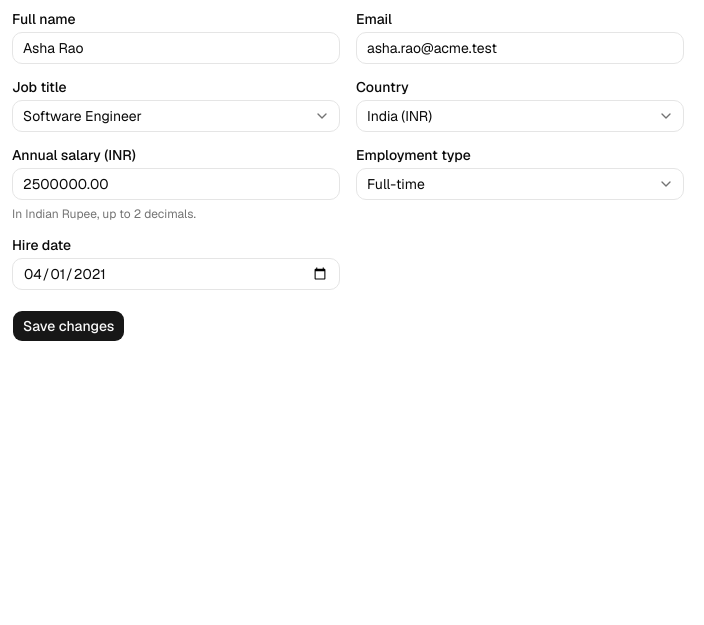
Test: EmployeeForm (edit) › warns that the currency changes and requires a new salary when the country changes
Expected: the field labelled "Annual salary (INR)" holds "2500000.00", left=12, top=168, right=340, bottom=200
Select "Japan (JPY)" in the dropdown labelled "Country" at coordinates (520, 116), box left=356, top=100, right=684, bottom=132
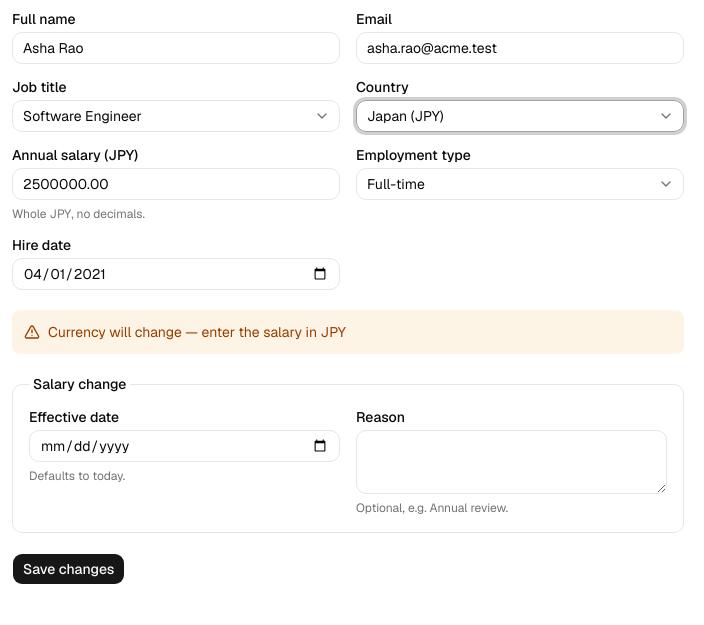
Now the message reads "Currency will change — enter the salary in JPY", box left=12, top=310, right=684, bottom=354
Click the button "Save changes" at coordinates (69, 569), box left=12, top=553, right=125, bottom=585
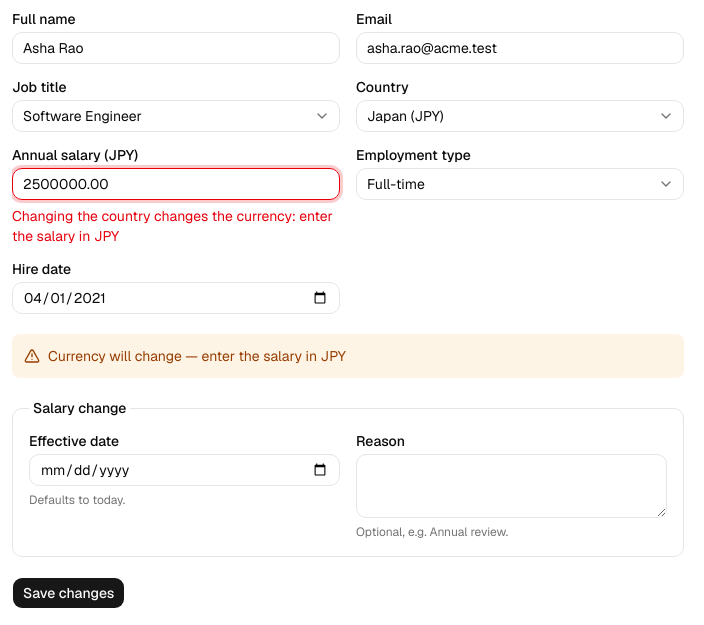
Now the text "Changing the country changes the currency: enter the salary in JPY" is shown, box left=12, top=206, right=340, bottom=246
